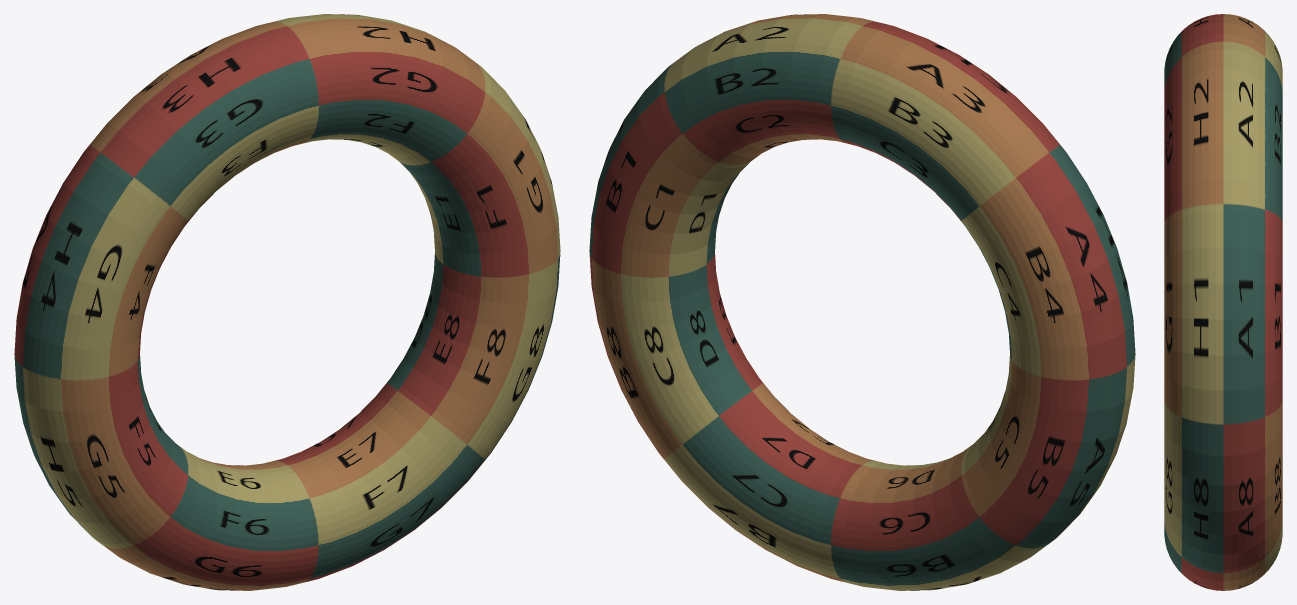
Rendered from texture_torus_R26_r19.glb.
3 views of the same model, side by side, from view 1: azimuth 30°, elevation 25°; view 2: azimuth 150°, elevation 25°; view 3: azimuth 270°, elevation 25° (orthographic). The views are drawn at different scales.
Parts seen in each view (by area): view 1: world; view 2: world; view 3: world.
Boxes of the visible parts, <box> form: world: <box>14,14,560,590</box>; world: <box>589,14,1135,590</box>; world: <box>1164,14,1282,590</box>.
Size of the model in its own units: 34.4 by 34.33 by 7.05.
Materials: 1 (1 with a texture image).
